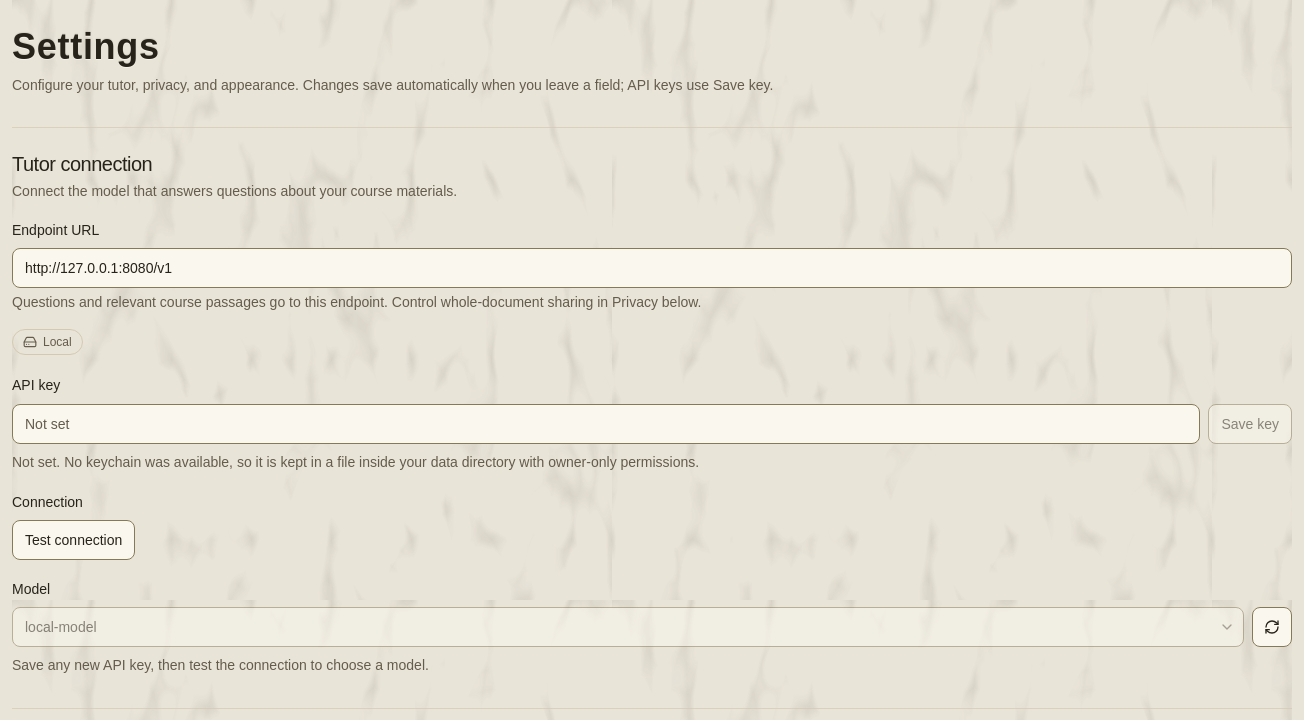
Test case: retains a persistent endpoint save error with a retry action
This screenshot has width=1304, height=720.
Step 1. Type "/new" into the field labelled "Endpoint URL" → (652, 268), box [12,248,1292,288]
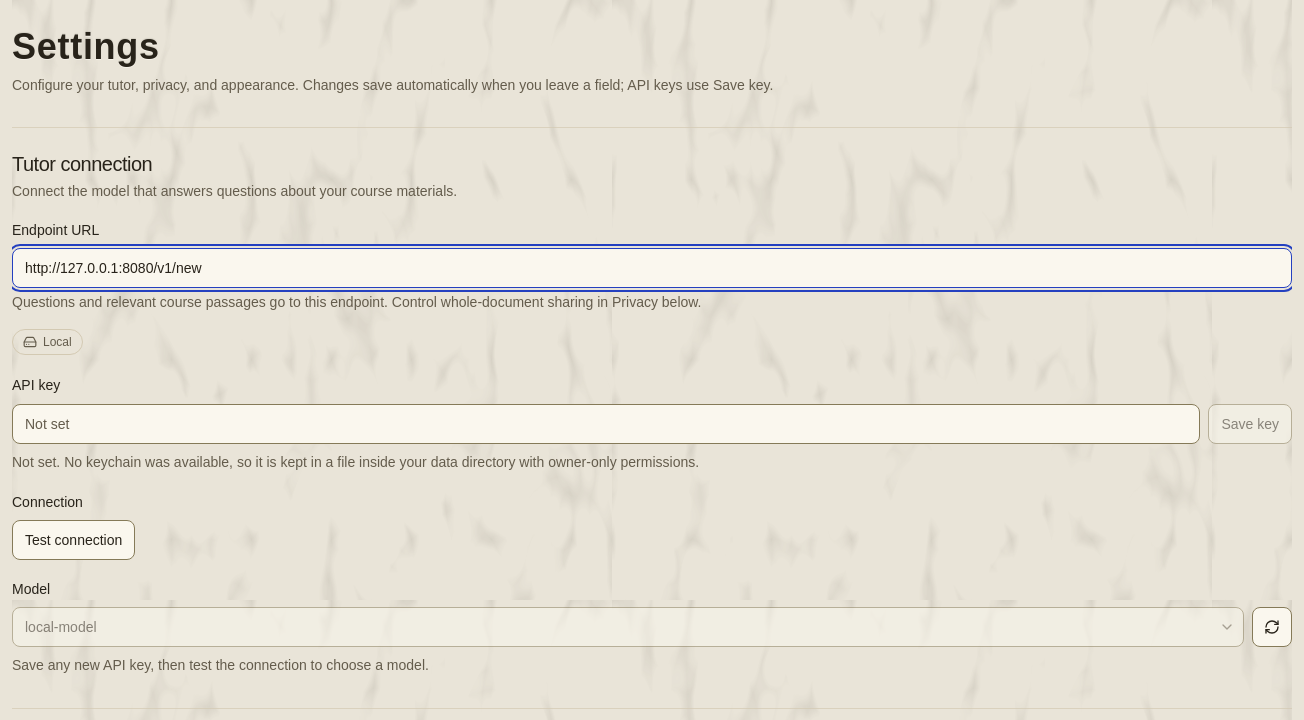
Step 2. Press Tab
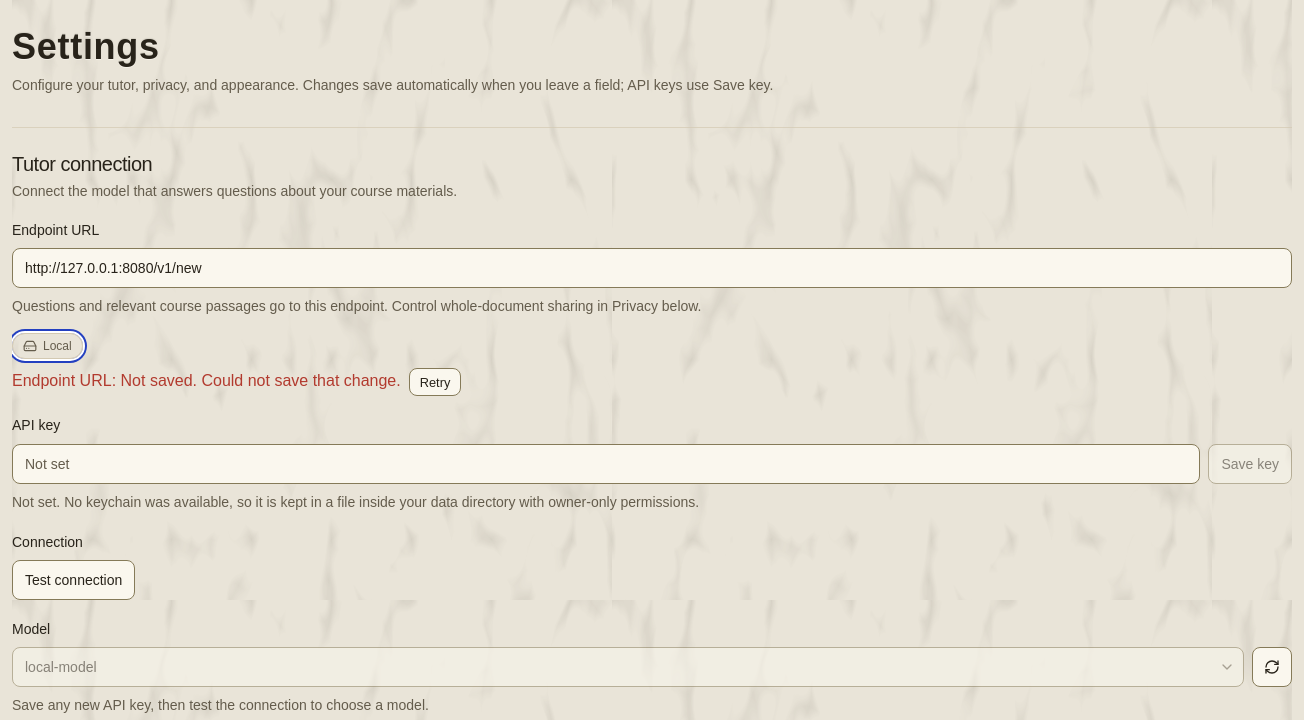
Expected: the button with aria-label "Retry Endpoint URL save" is shown, [409,368,461,396]
Expected: the text "Endpoint URL: Not saved. Could not save that change." is shown, [12,373,401,390]
